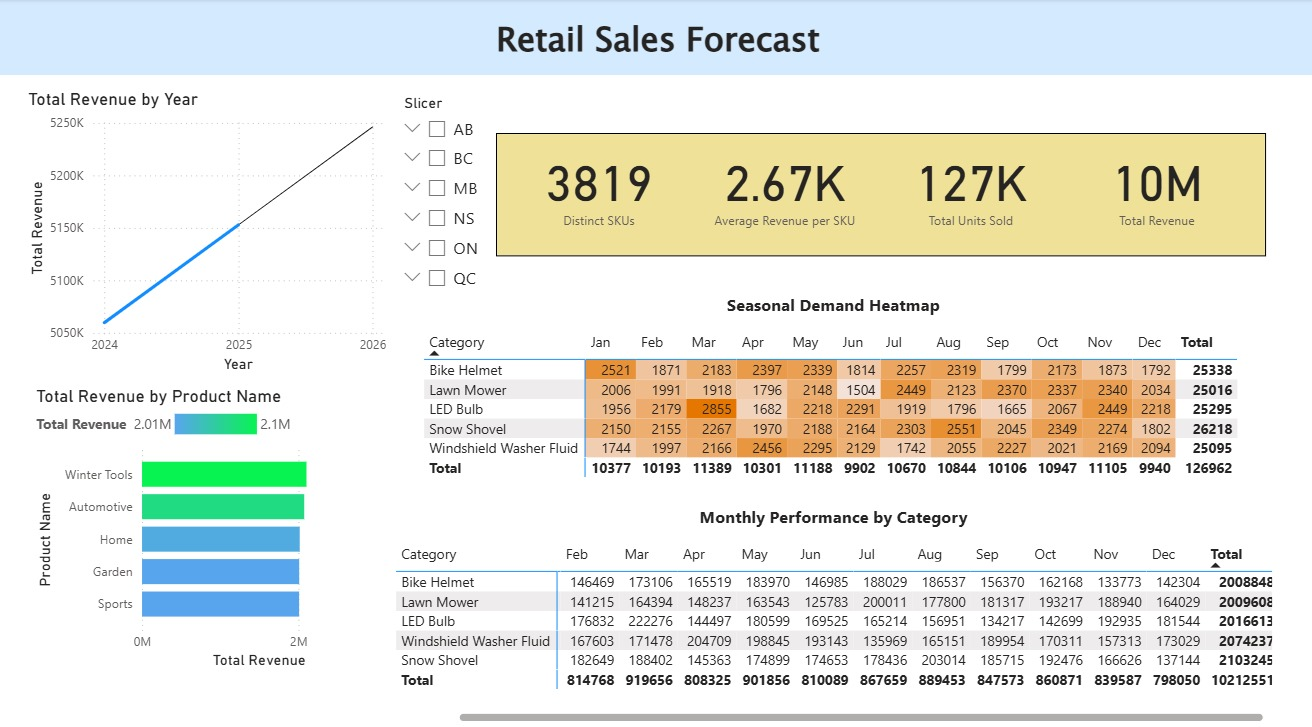

The dashboard page shown, as its layout file describes it:
{"tool":"powerbi","page":{"name":"Page 1","canvas":[1280,720],"ordinal":0},"visuals":[{"type":"shape","box":[566.1,141,580.7,112.8],"z":0},{"type":"lineChart","fields":{"Category":["DateTable.Date.Variation.Date Hierarchy.Year","DateTable.Date.Variation.Date Hierarchy.Quarter","DateTable.Date.Variation.Date Hierarchy.Month","DateTable.Date.Variation.Date Hierarchy.Day"],"Y":["Sheet2.Total Revenue"]},"box":[22.4,87.5,357.9,280.1],"z":1000},{"type":"barChart","fields":{"Y":["Sheet2.Total Revenue"],"Category":["Sheet2.Product Name"]},"box":[30.2,376.4,350.2,280.1],"z":2000},{"type":"pivotTable","fields":{"Rows":["Sheet2.Category"],"Columns":["DateTable.Month"],"Values":["Sum(Sheet2.Units Sold)"]},"box":[407.5,318.1,806.3,169.2],"z":3000},{"type":"pivotTable","fields":{"Rows":["Sheet2.Category"],"Columns":["DateTable.Month"],"Values":["Sheet2.Total Revenue"]},"box":[380.3,524.3,861.8,183.8],"z":4000},{"type":"card","fields":{"Values":["Sheet2.Total Revenue"]},"box":[1003.8,141,131.3,102.1],"z":5000},{"type":"card","fields":{"Values":["Sheet2.Total Units Sold"]},"box":[873.4,141,130.3,102.1],"z":6000},{"type":"card","fields":{"Values":["Sheet2.Average Revenue per SKU"]},"box":[715.9,145.9,148.8,97.3],"z":7000},{"type":"card","fields":{"Values":["Sheet2.Distinct SKUs"]},"box":[575.8,145.9,140.1,97.3],"z":8000},{"type":"slicer","fields":{"Values":["Sheet2.Province","Sheet2.Store","Sheet2.Category","DateTable.YearMonth"]},"box":[380.3,87.5,102.1,201.3],"z":9000},{"type":"textbox","box":[662.4,487.3,296.7,37],"z":10000},{"type":"textbox","box":[662.4,281.1,296.7,37],"z":11000},{"type":"shape","box":[0,0,1280,73.9],"z":12000},{"type":"textbox","box":[384.2,10.7,511.6,63.2],"z":13000},{"type":"actionButton","box":[0,0,100,40],"z":14000}]}

Visuals, with their boxes in screenshot pixels (x1, y1, x2, y2), scaled from the page's 1280x720 canvas onto the 1312x727 screenshot:
shape: crop(580, 142, 1175, 256)
lineChart - DateTable.Date.Variation.Date Hierarchy.Year x DateTable.Date.Variation.Date Hierarchy.Quarter: crop(23, 88, 390, 371)
barChart - Sheet2.Total Revenue x Sheet2.Product Name: crop(31, 380, 390, 663)
pivotTable - Sheet2.Category x DateTable.Month: crop(418, 321, 1244, 492)
pivotTable - Sheet2.Category x DateTable.Month: crop(390, 529, 1273, 715)
card - Sheet2.Total Revenue: crop(1029, 142, 1163, 245)
card - Sheet2.Total Units Sold: crop(895, 142, 1029, 245)
card - Sheet2.Average Revenue per SKU: crop(734, 147, 886, 246)
card - Sheet2.Distinct SKUs: crop(590, 147, 734, 246)
slicer - Sheet2.Province x Sheet2.Store: crop(390, 88, 494, 292)
textbox: crop(679, 492, 983, 529)
textbox: crop(679, 284, 983, 321)
shape: crop(0, 0, 1311, 75)
textbox: crop(394, 11, 918, 75)
actionButton: crop(0, 0, 102, 40)
